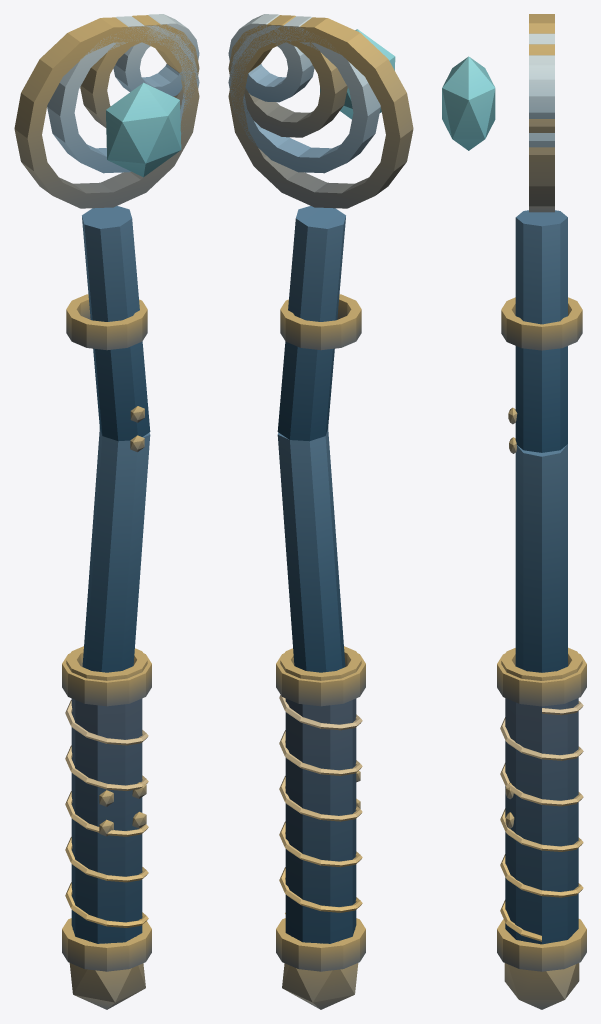
Rendered from varita_caracola_real.glb.
3 renders of one model, left to right at view 1: azimuth 30°, elevation 25°; view 2: azimuth 150°, elevation 25°; view 3: azimuth 270°, elevation 25°, orthographic.
Visible parts, largest first — view 1: varita_caracola_real_finished; view 2: varita_caracola_real_finished; view 3: varita_caracola_real_finished.
Part boxes in pixels (left/top/right/bottom): varita_caracola_real_finished: left=14, top=14, right=199, bottom=1009; varita_caracola_real_finished: left=228, top=14, right=413, bottom=1009; varita_caracola_real_finished: left=442, top=14, right=586, bottom=1009.
Size of the model in its own units: 0.19 by 1.04 by 0.1385.
Materials: 2 (2 with a texture image).
